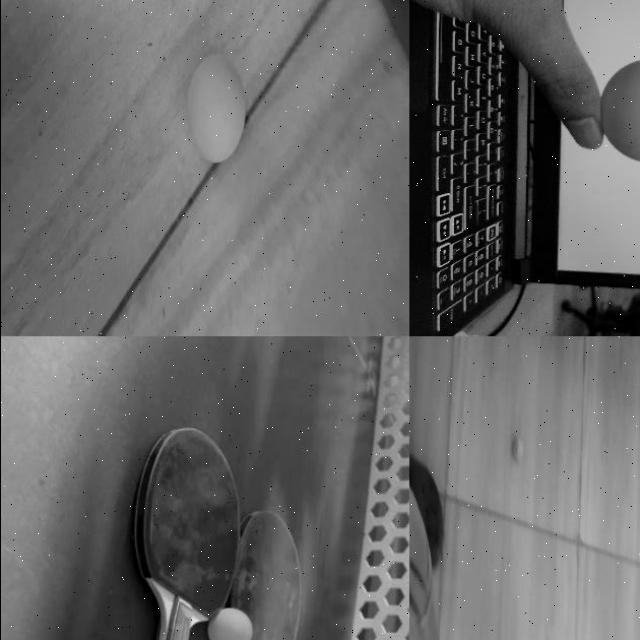ping-pong-ball: (188, 54, 246, 160), (598, 57, 640, 162), (206, 608, 251, 640), (512, 435, 523, 461)
